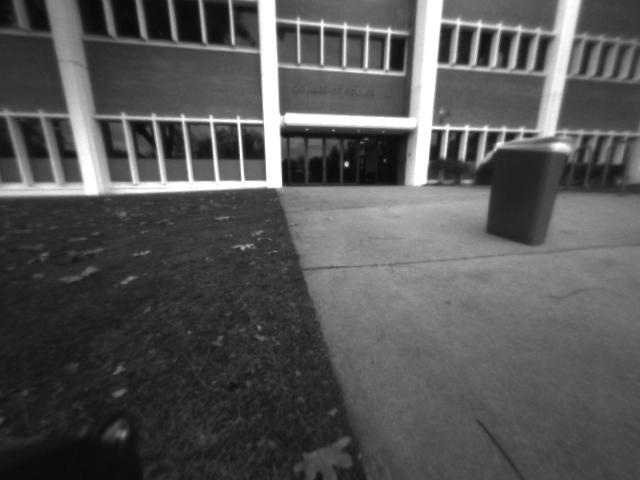trashcan_open: (478, 126, 580, 258)
